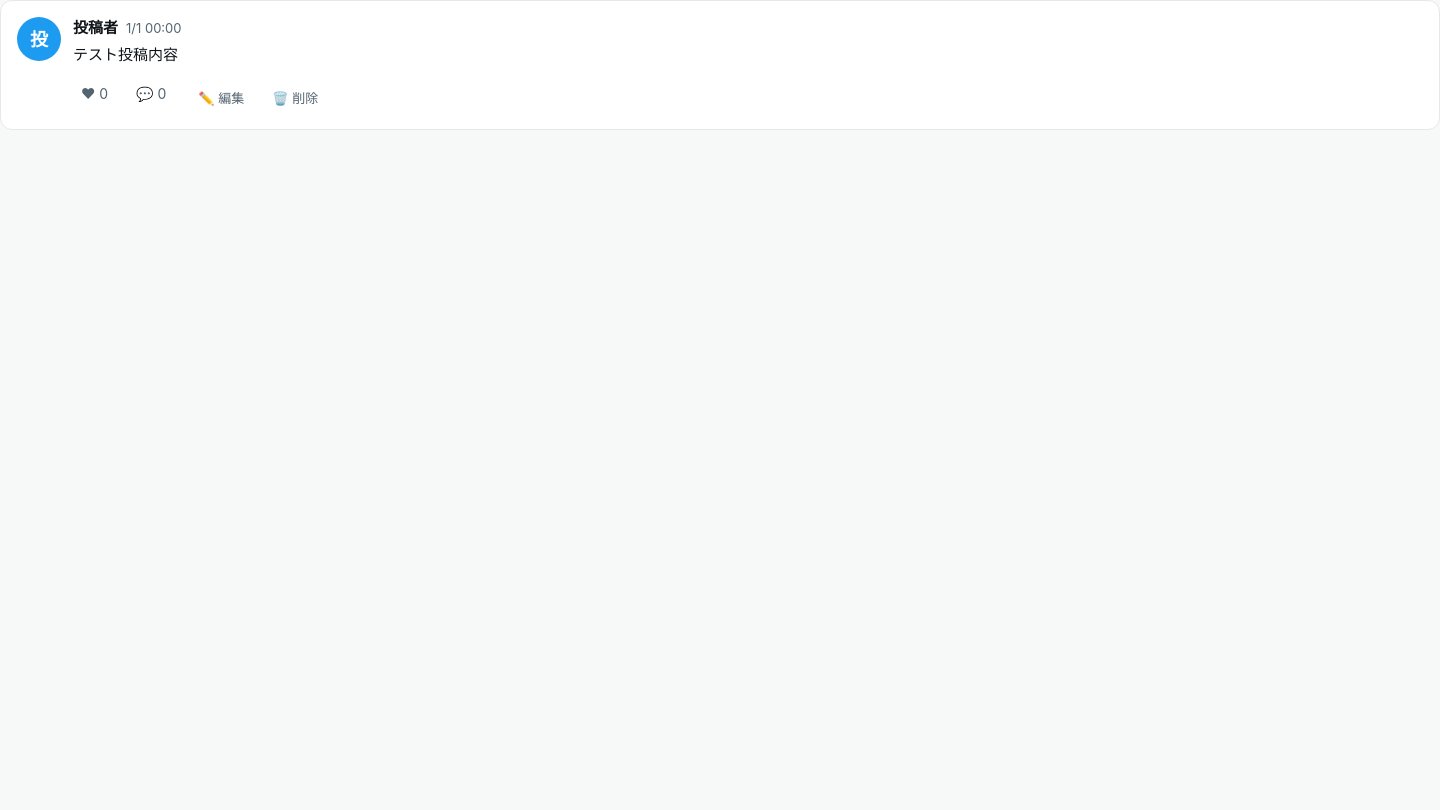
Test case: PostCard › 削除ボタンクリック → 削除確認ダイアログが表示される
Click the button "🗑️ 削除".
click(295, 98)  # box [260,82,330,113]
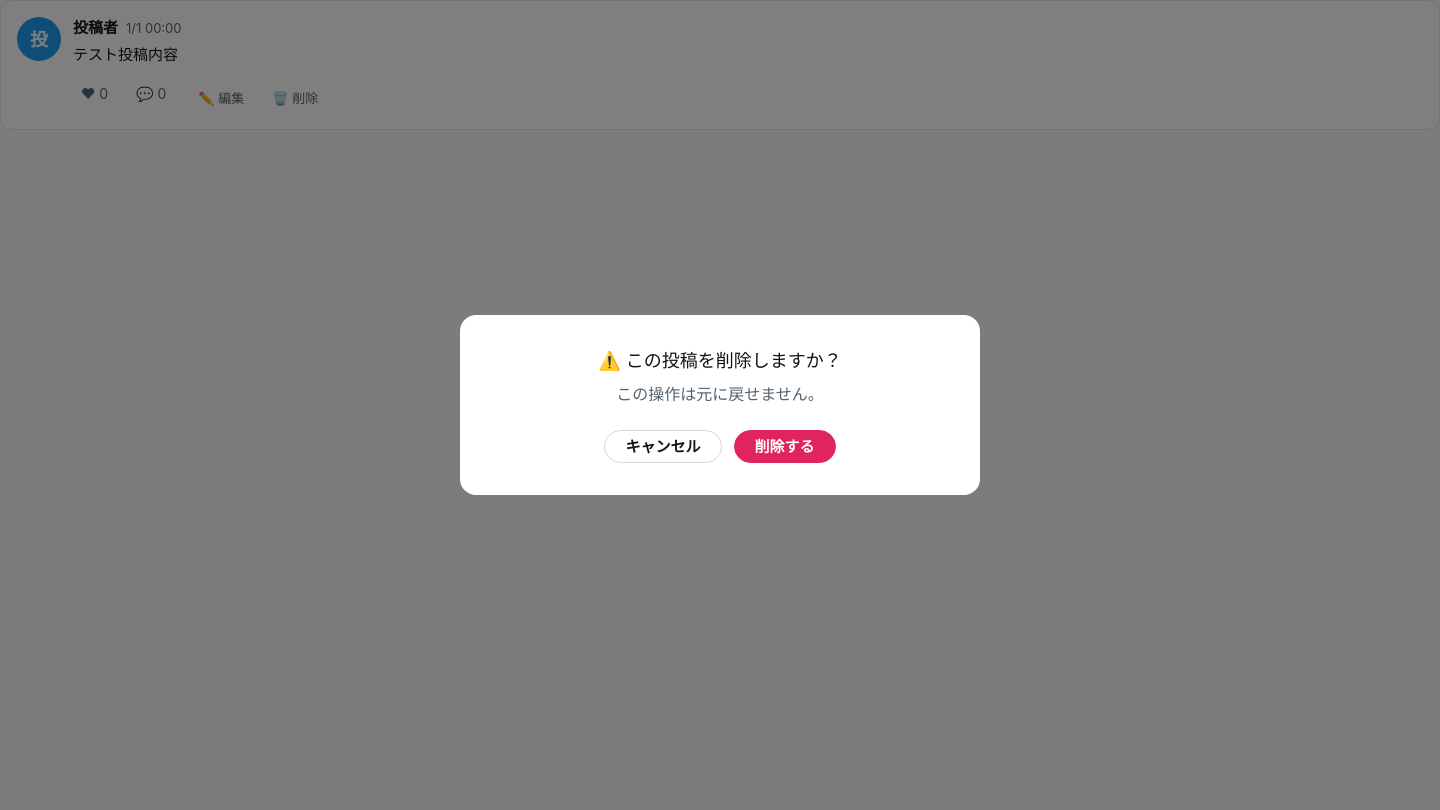
Expected: the text "⚠️ この投稿を削除しますか？" is shown, [598,350,842,371]
